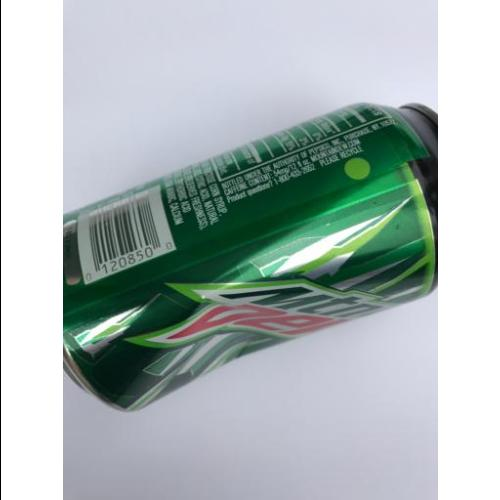metal: (64, 102, 438, 414)
